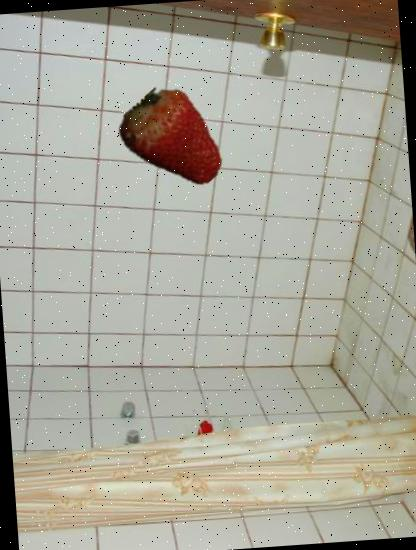Strawberry: (117, 84, 231, 198)
